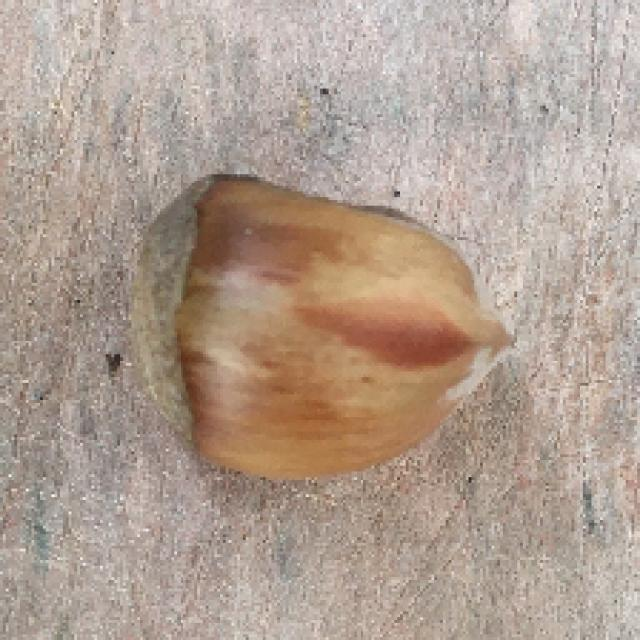qualityHazelnut: (121, 167, 509, 483)
